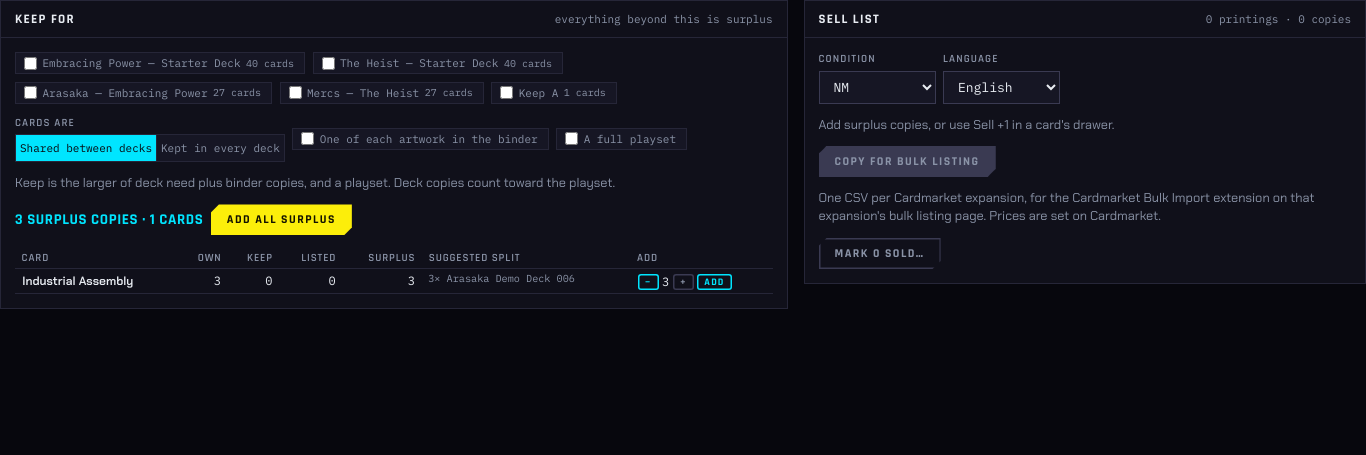
Test: SellMode › refuses the confirm when the collection changed meanwhile
What coordinates should you click on to do the following:
click the button with test id "sell-add-all"
I would click on:
 (281, 220)
Its box is [211,204,352,236].
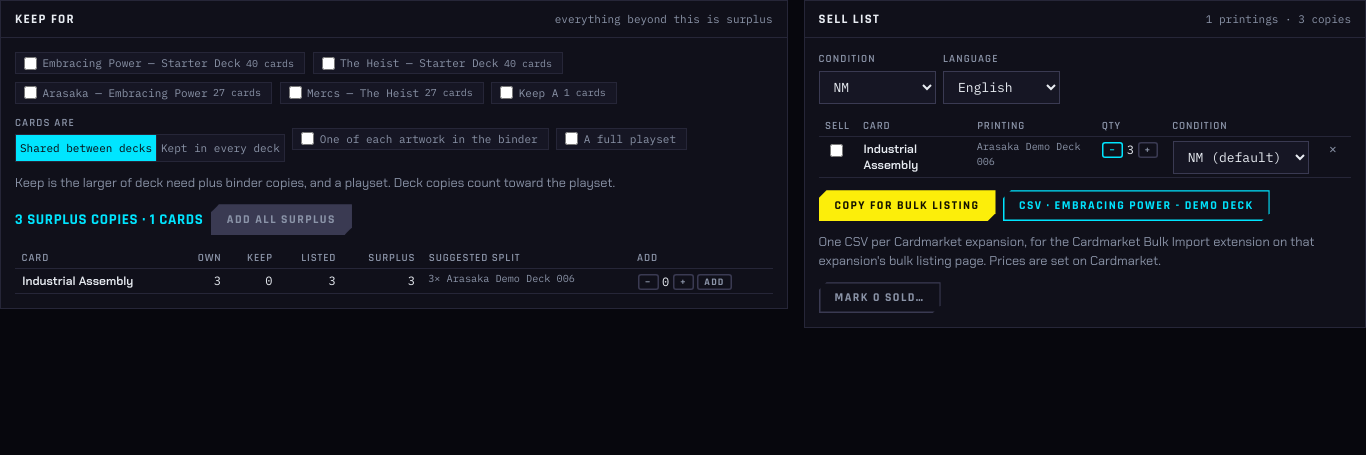
What coordinates should you click on to do the following:
click the checkbox named "Select Industrial Assembly Arasaka Demo Deck 006"
I would click on:
 (836, 150)
Its box is [830,144,843,157].
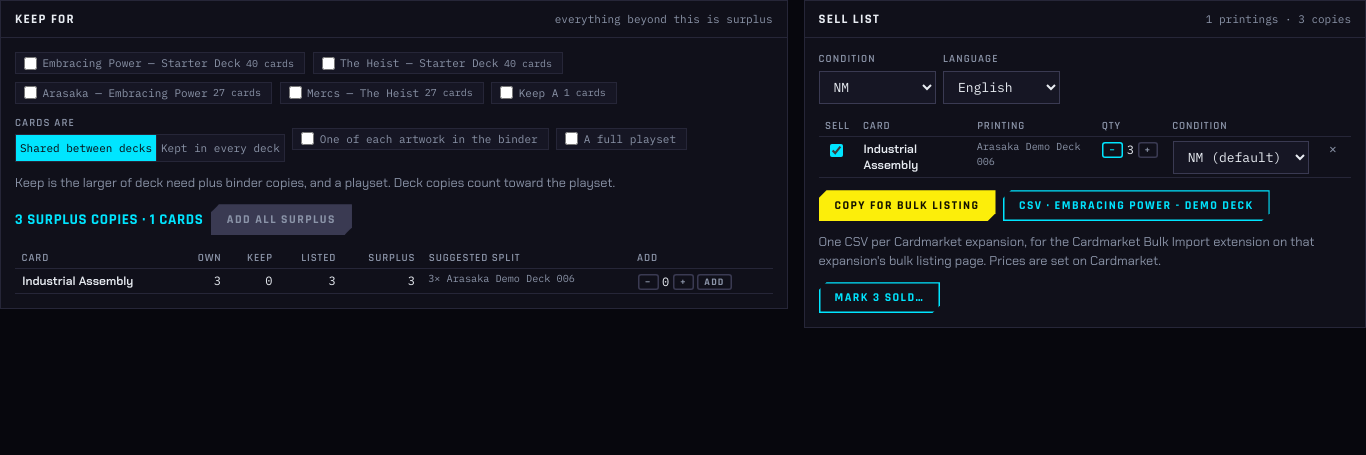
What coordinates should you click on to do the following:
click the button with test id "sell-mark"
I would click on:
 (879, 298)
Its box is [818,282,940,313].
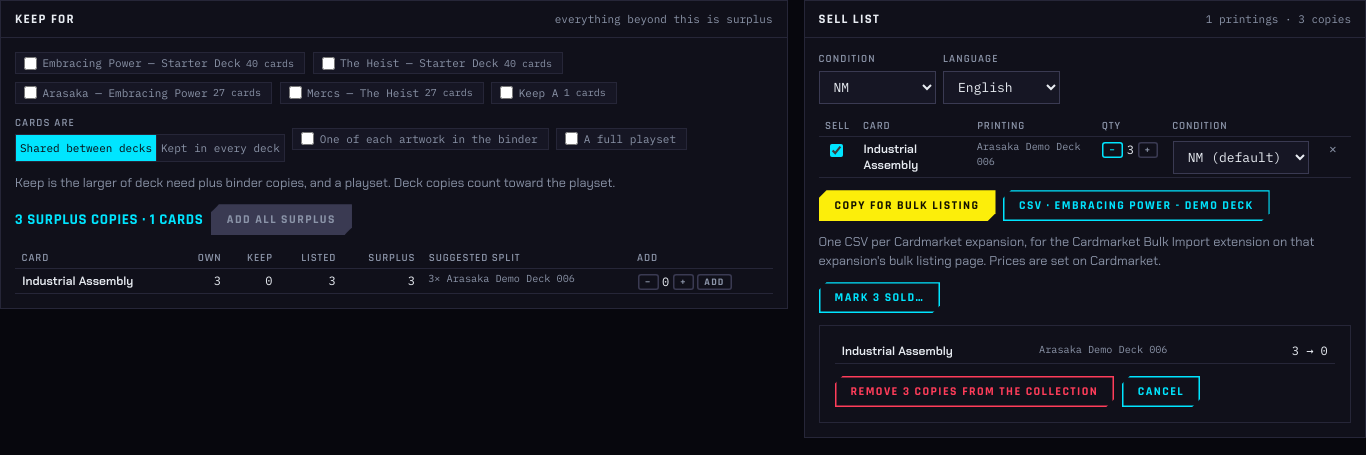
What coordinates should you click on to do the following:
click the button with test id "sell-confirm-ok"
I would click on:
 (974, 391)
Its box is [834,376,1114,407].
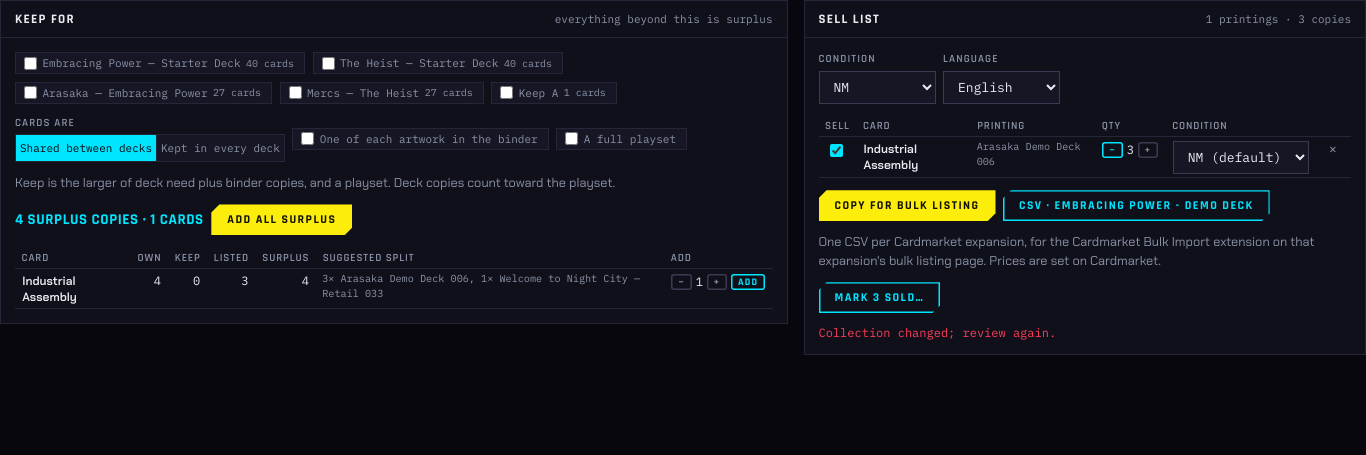
Result: the message with test id "sell-error" shows "Collection changed" at [818,325,1056,340]
